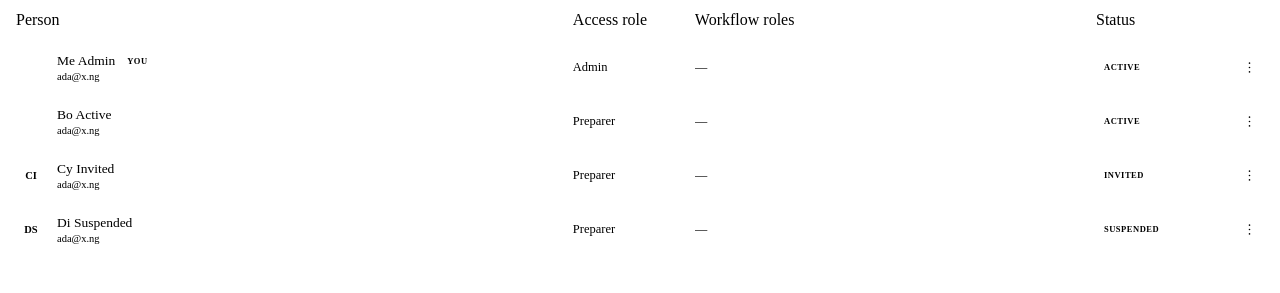
Test: the row menu › an invited row offers Resend and Revoke, both enabled, with no reasons
The width and height of the screenshot is (1280, 293).
Click the 3rd button with test id "member-menu-trigger" at [1250, 175], box top-left (1236, 161), bottom-right (1264, 189)
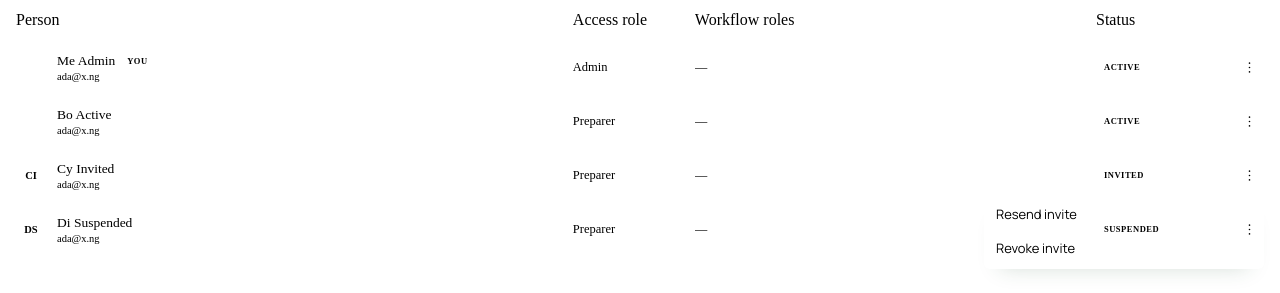
expect the buttons read "Resend invite", "Revoke invite", in this order: met, box top-left (984, 197), bottom-right (1264, 231); top-left (984, 231), bottom-right (1264, 265)
